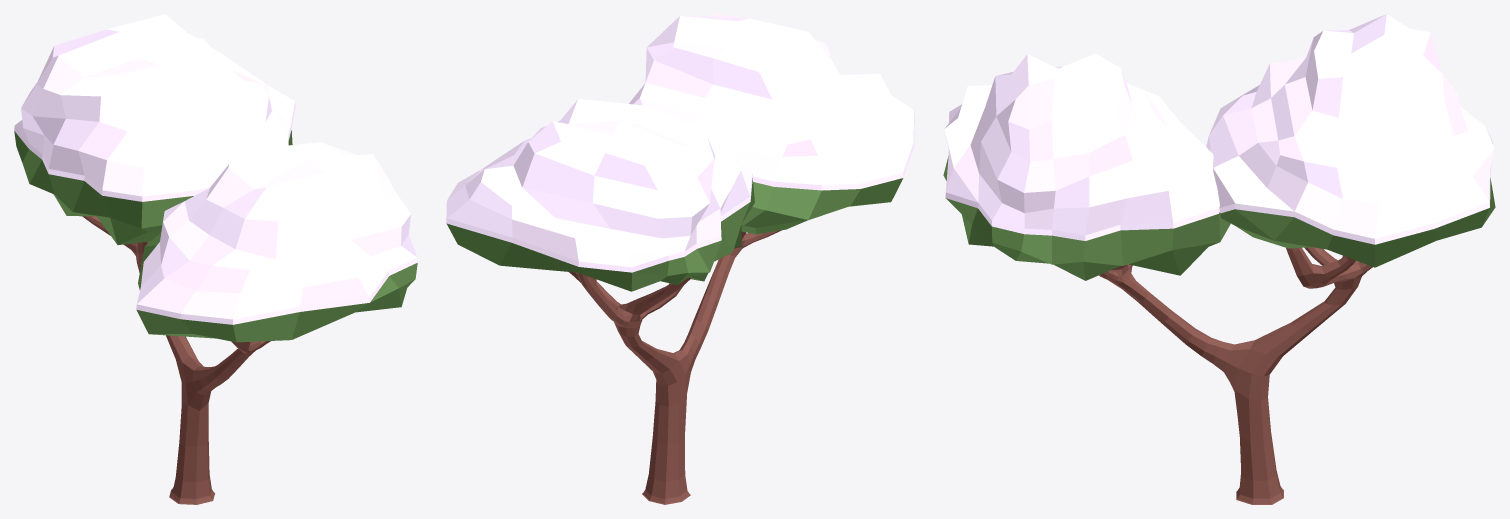
File: CommonTree_Snow_1.glb
3 renders of one model, left to right at view 1: azimuth 30°, elevation 25°; view 2: azimuth 150°, elevation 25°; view 3: azimuth 270°, elevation 25°, orthographic. The views are drawn at different scales.
Visible parts, largest first — view 1: CommonTree_Snow_1; view 2: CommonTree_Snow_1; view 3: CommonTree_Snow_1.
Part boxes in pixels (left/top/right/bottom): CommonTree_Snow_1: left=14, top=14, right=417, bottom=504; CommonTree_Snow_1: left=446, top=14, right=914, bottom=504; CommonTree_Snow_1: left=943, top=14, right=1495, bottom=504.
Size of the model in its own units: 189 by 251 by 277.
